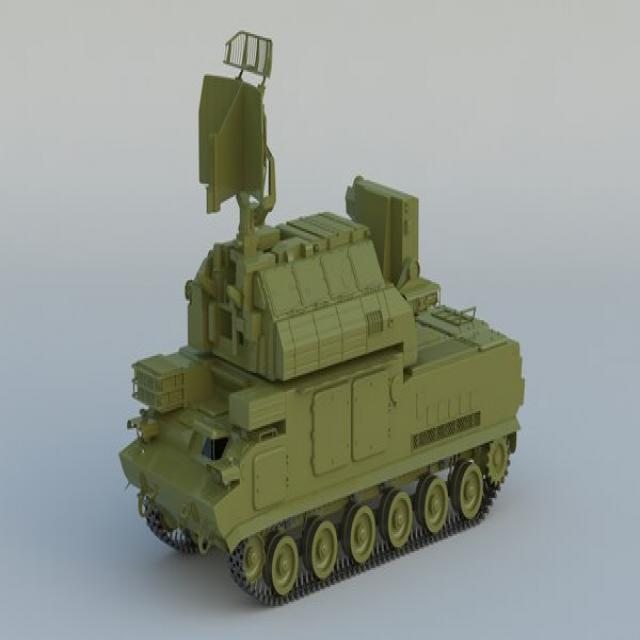MIL_EW_RDR: (120, 32, 526, 610)
